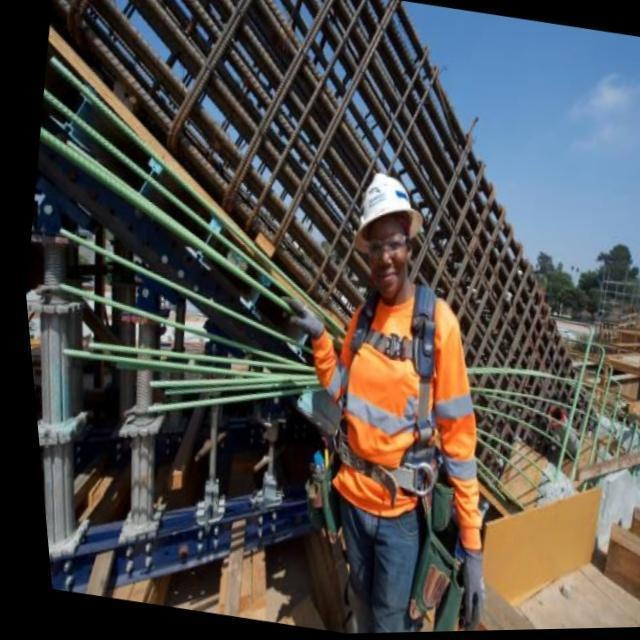Arnes_seguridad: (319, 280, 453, 529)
